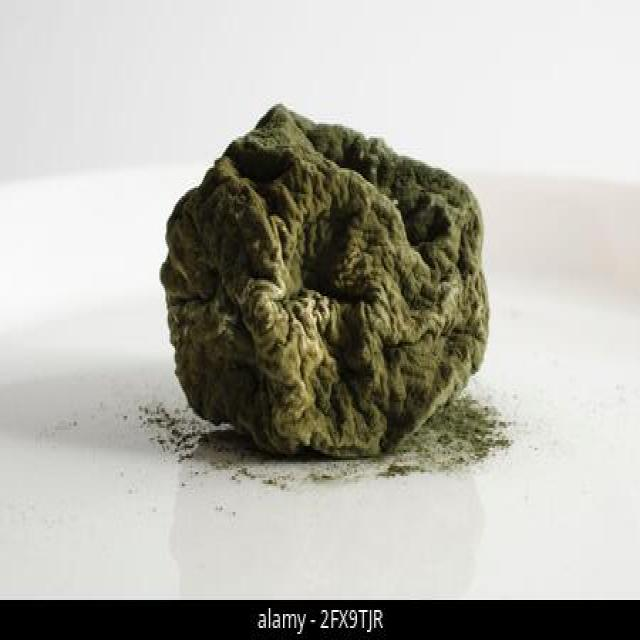Rotten: (158, 105, 491, 459)
